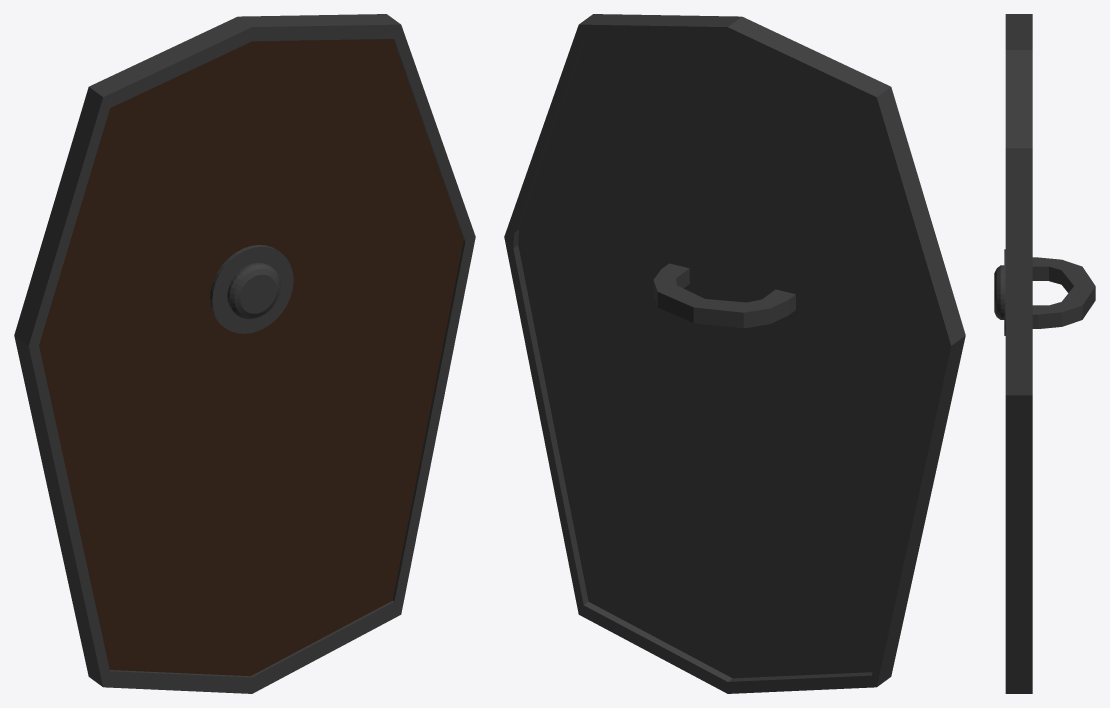
The model's file is Shield.fbx.
3 renders of one model, left to right at view 1: azimuth 30°, elevation 25°; view 2: azimuth 150°, elevation 25°; view 3: azimuth 270°, elevation 25°, orthographic. The views are drawn at different scales.
Parts seen in each view (by area): view 1: Cube; view 2: Cube; view 3: Cube.
Part boxes in pixels (<box>): Cube: <box>14,14,475,693</box>; Cube: <box>504,14,965,693</box>; Cube: <box>994,14,1095,693</box>.
Bounding box in the file's own units: 300 × 428 × 63.64.
